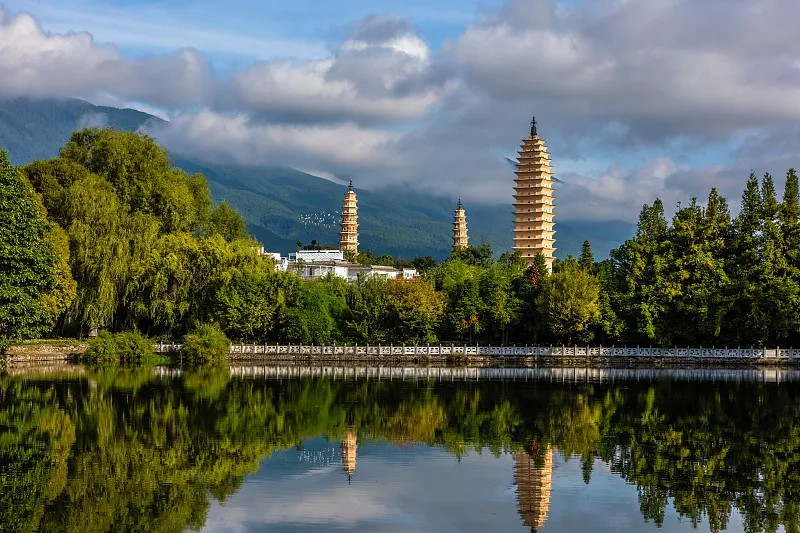ThreePagoda: (511, 117, 557, 274)
